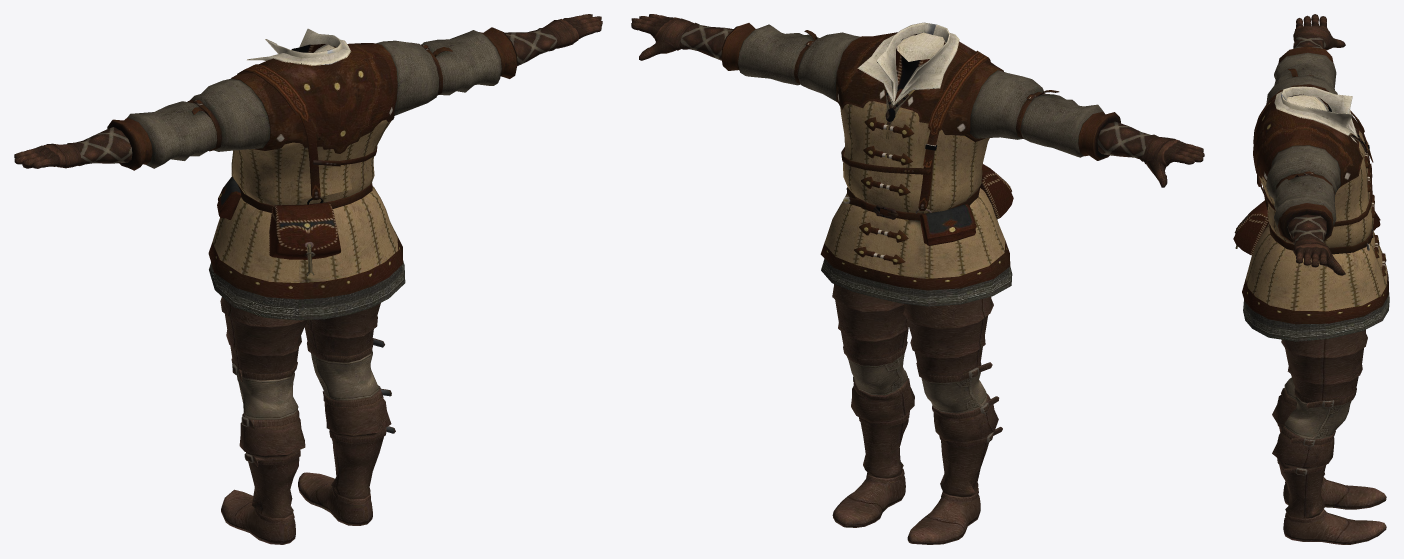
The model's file is dwarf_clothing.fbx.
The picture shows the model from 3 angles, left to right: view 1: azimuth 30°, elevation 25°; view 2: azimuth 150°, elevation 25°; view 3: azimuth 270°, elevation 25°; orthographic projection. The views are drawn at different scales.
Parts seen in each view (by area): view 1: mesh68, mesh65, mesh63, mesh4, mesh62, mesh04, mesh67, mesh66, mesh7, mesh8; view 2: mesh68, mesh65, mesh63, mesh4, mesh62, mesh04, mesh67, mesh66, mesh8, mesh7; view 3: mesh68, mesh4, mesh65, mesh63, mesh62, mesh04, mesh66, mesh67, mesh7, mesh8.
Part boxes in pixels (x1,y1,x2,y2): mesh68: [220, 297, 395, 544]; mesh65: [194, 43, 427, 299]; mesh63: [127, 30, 501, 168]; mesh4: [209, 186, 405, 320]; mesh62: [200, 44, 428, 276]; mesh04: [14, 14, 602, 168]; mesh67: [237, 350, 379, 419]; mesh66: [107, 27, 517, 212]; mesh7: [265, 28, 342, 57]; mesh8: [247, 39, 350, 65]; mesh68: [832, 284, 1002, 544]; mesh65: [807, 32, 1034, 290]; mesh63: [738, 24, 1104, 197]; mesh4: [821, 188, 1012, 306]; mesh62: [840, 32, 989, 213]; mesh04: [631, 14, 1204, 187]; mesh67: [847, 354, 986, 413]; mesh66: [721, 23, 1120, 220]; mesh8: [857, 32, 959, 104]; mesh7: [876, 22, 951, 104]; mesh68: [1272, 330, 1386, 544]; mesh4: [1243, 223, 1389, 341]; mesh65: [1233, 74, 1388, 324]; mesh63: [1266, 52, 1369, 250]; mesh62: [1235, 95, 1373, 248]; mesh04: [1287, 14, 1345, 275]; mesh66: [1269, 46, 1371, 254]; mesh67: [1284, 377, 1351, 439]; mesh7: [1281, 86, 1357, 137]; mesh8: [1274, 91, 1358, 137].
Size of the model in its own units: 5.25 by 4.15 by 1.39.
